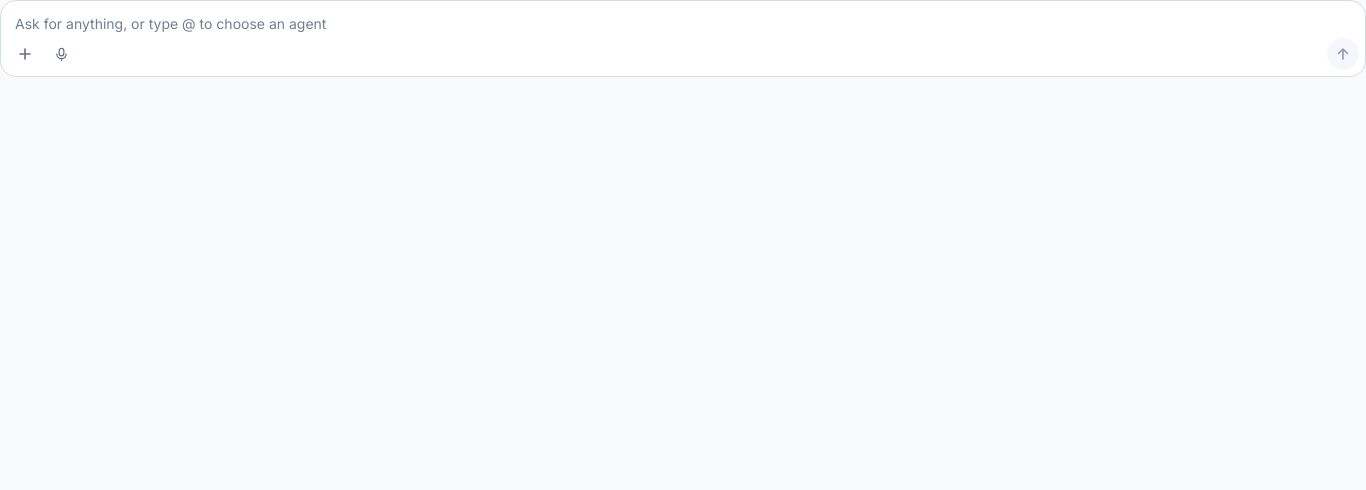
the + menu › opens with every item, each with a short description, focuses the first, and moves with the keyboard
The width and height of the screenshot is (1366, 490).
Click the button named "Add to message".
click(25, 54)  # box x1=9 y1=38 x2=41 y2=70
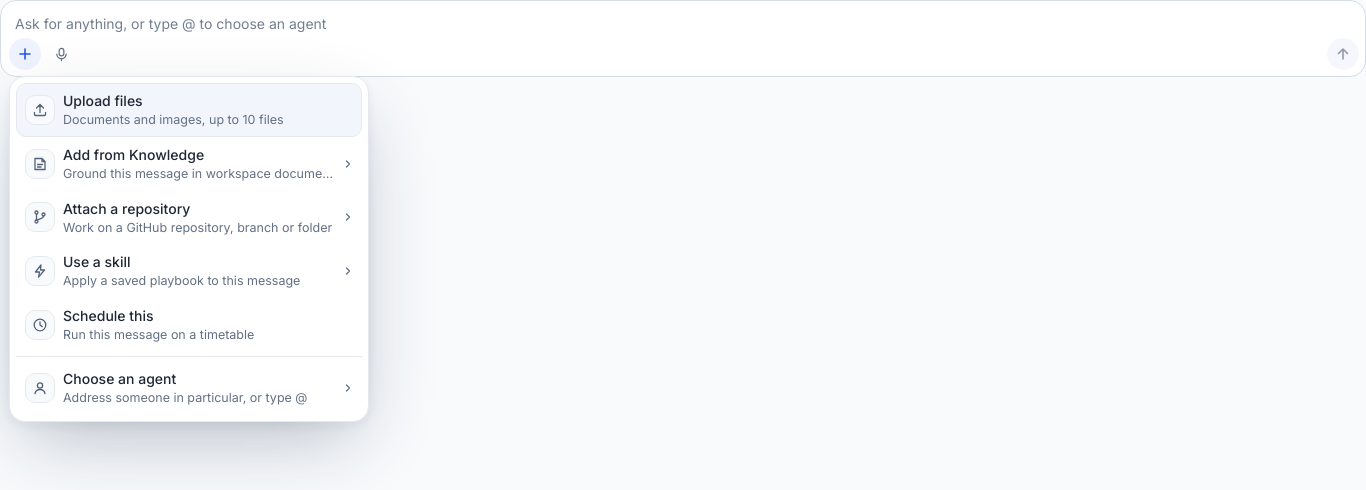
Now the menu items read "Upload filesDocuments and images, up to 10 files", "Add from KnowledgeGround this message in workspace documents", "Attach a repositoryWork on a GitHub repository, branch or folder", "Use a skillApply a saved playbook to this message", "Schedule thisRun this message on a timetable", "Choose an agentAddress someone in particular, or type @", in this order, box x1=16 y1=83 x2=362 y2=137; x1=16 y1=137 x2=362 y2=191; x1=16 y1=190 x2=362 y2=244; x1=16 y1=244 x2=362 y2=298; x1=16 y1=298 x2=362 y2=352; x1=16 y1=361 x2=362 y2=414
Now the button named "Add to message" is expanded, box x1=9 y1=38 x2=41 y2=70
Press ArrowDown in the menu named "Add to message", box x1=16 y1=83 x2=362 y2=414
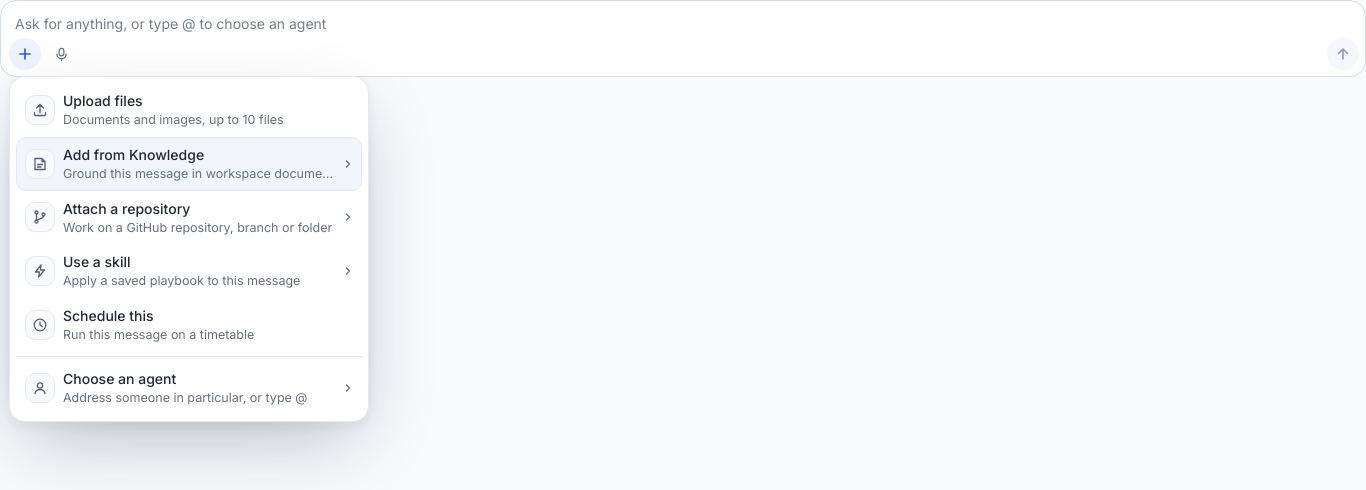
Press End in the menu named "Add to message", box x1=16 y1=83 x2=362 y2=414
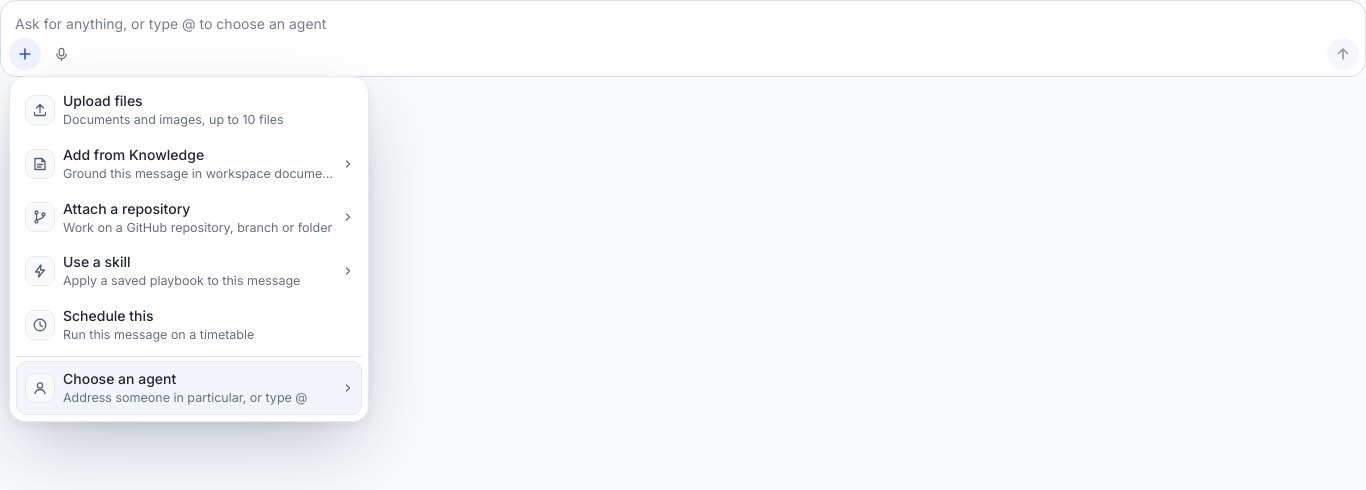
Press ArrowDown in the menu named "Add to message", box x1=16 y1=83 x2=362 y2=414
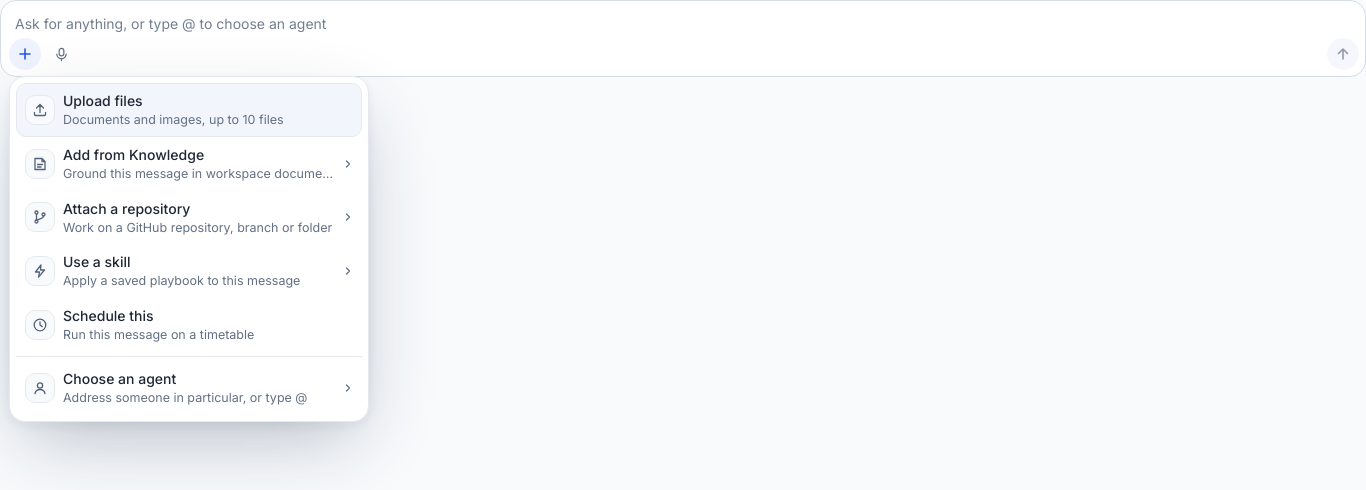
Press s in the menu named "Add to message", box x1=16 y1=83 x2=362 y2=414
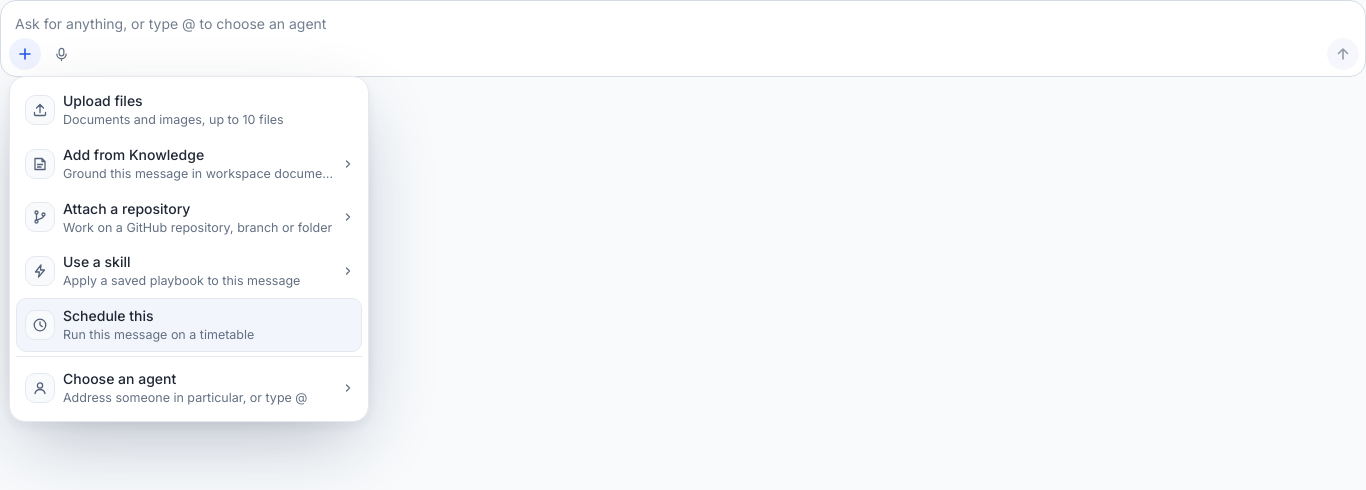
Press Escape in the menu named "Add to message", box x1=16 y1=83 x2=362 y2=414
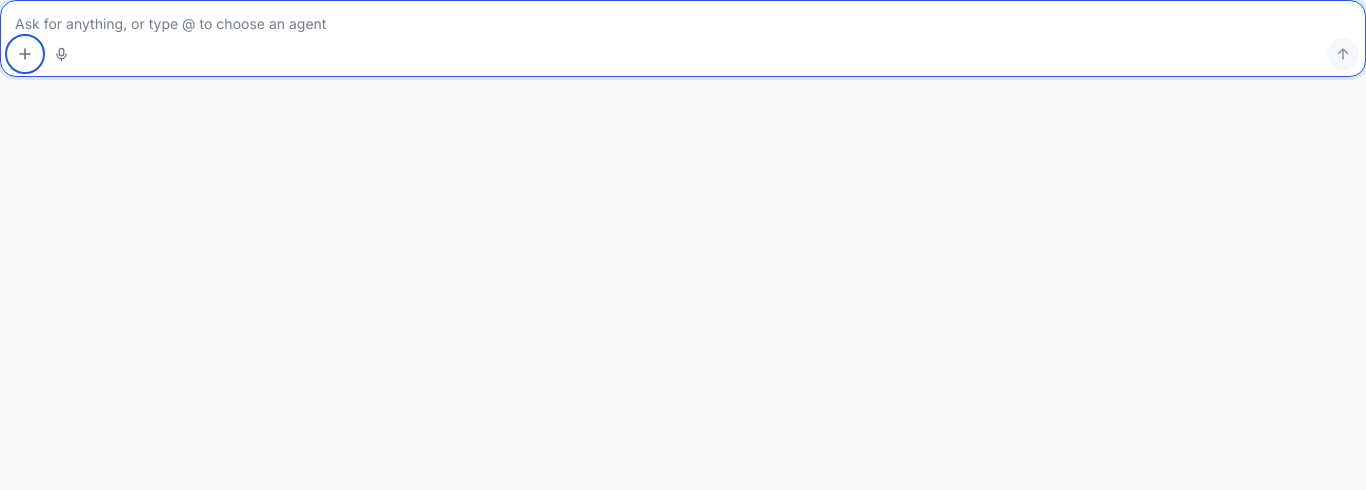
Now the menu is gone
